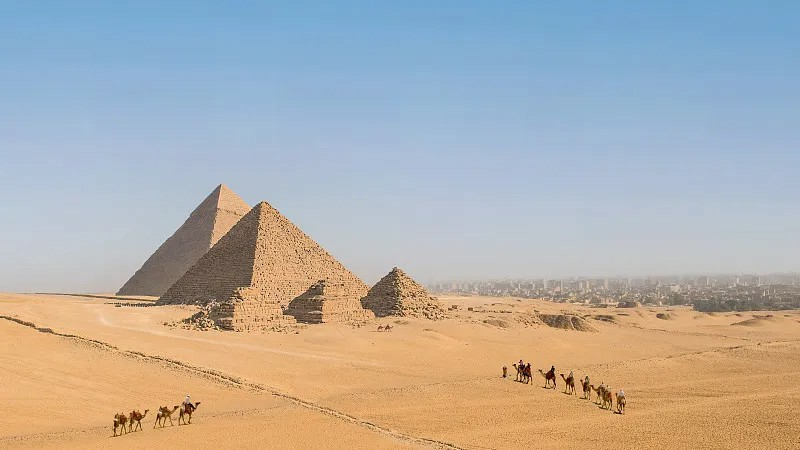Pyramid: (155, 202, 372, 307), (113, 185, 251, 295), (202, 287, 305, 333), (361, 267, 447, 318), (284, 280, 373, 324)
